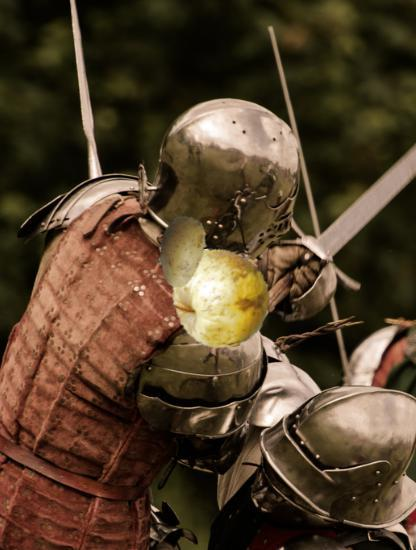Apple: (169, 247, 271, 349)
Potato: (144, 214, 219, 289)
